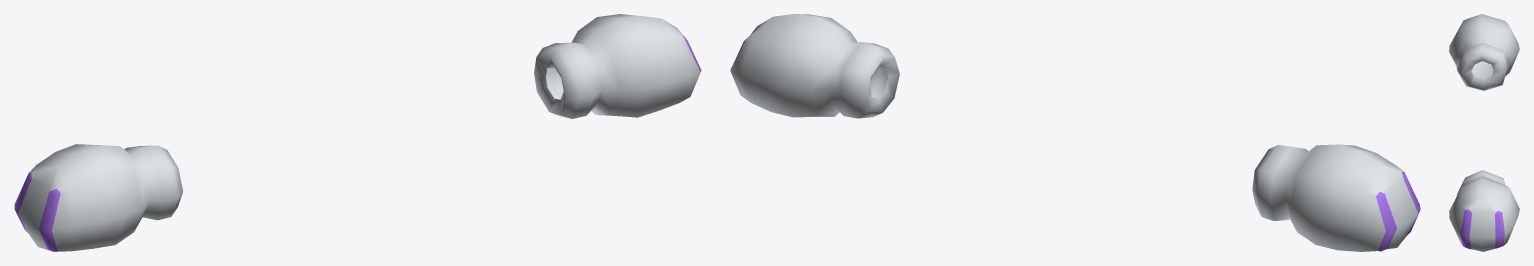
The model's file is Glove_3.fbx.
The picture shows the model from 3 angles, left to right: view 1: azimuth 30°, elevation 25°; view 2: azimuth 150°, elevation 25°; view 3: azimuth 270°, elevation 25°; orthographic projection. The views are drawn at different scales.
Parts seen in each view (by area): view 1: Glove_3; view 2: Glove_3; view 3: Glove_3.
Part boxes in pixels (x1,y1,x2,y2): Glove_3: (14,14,701,251); Glove_3: (730,14,1420,251); Glove_3: (1449,14,1519,251).
Bounding box in the file's own units: 141 × 19.86 × 20.91.
